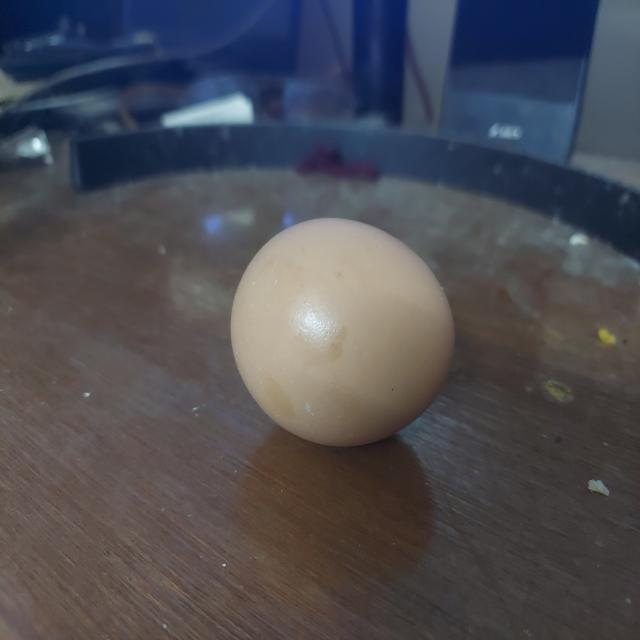egg: (228, 214, 462, 449)
